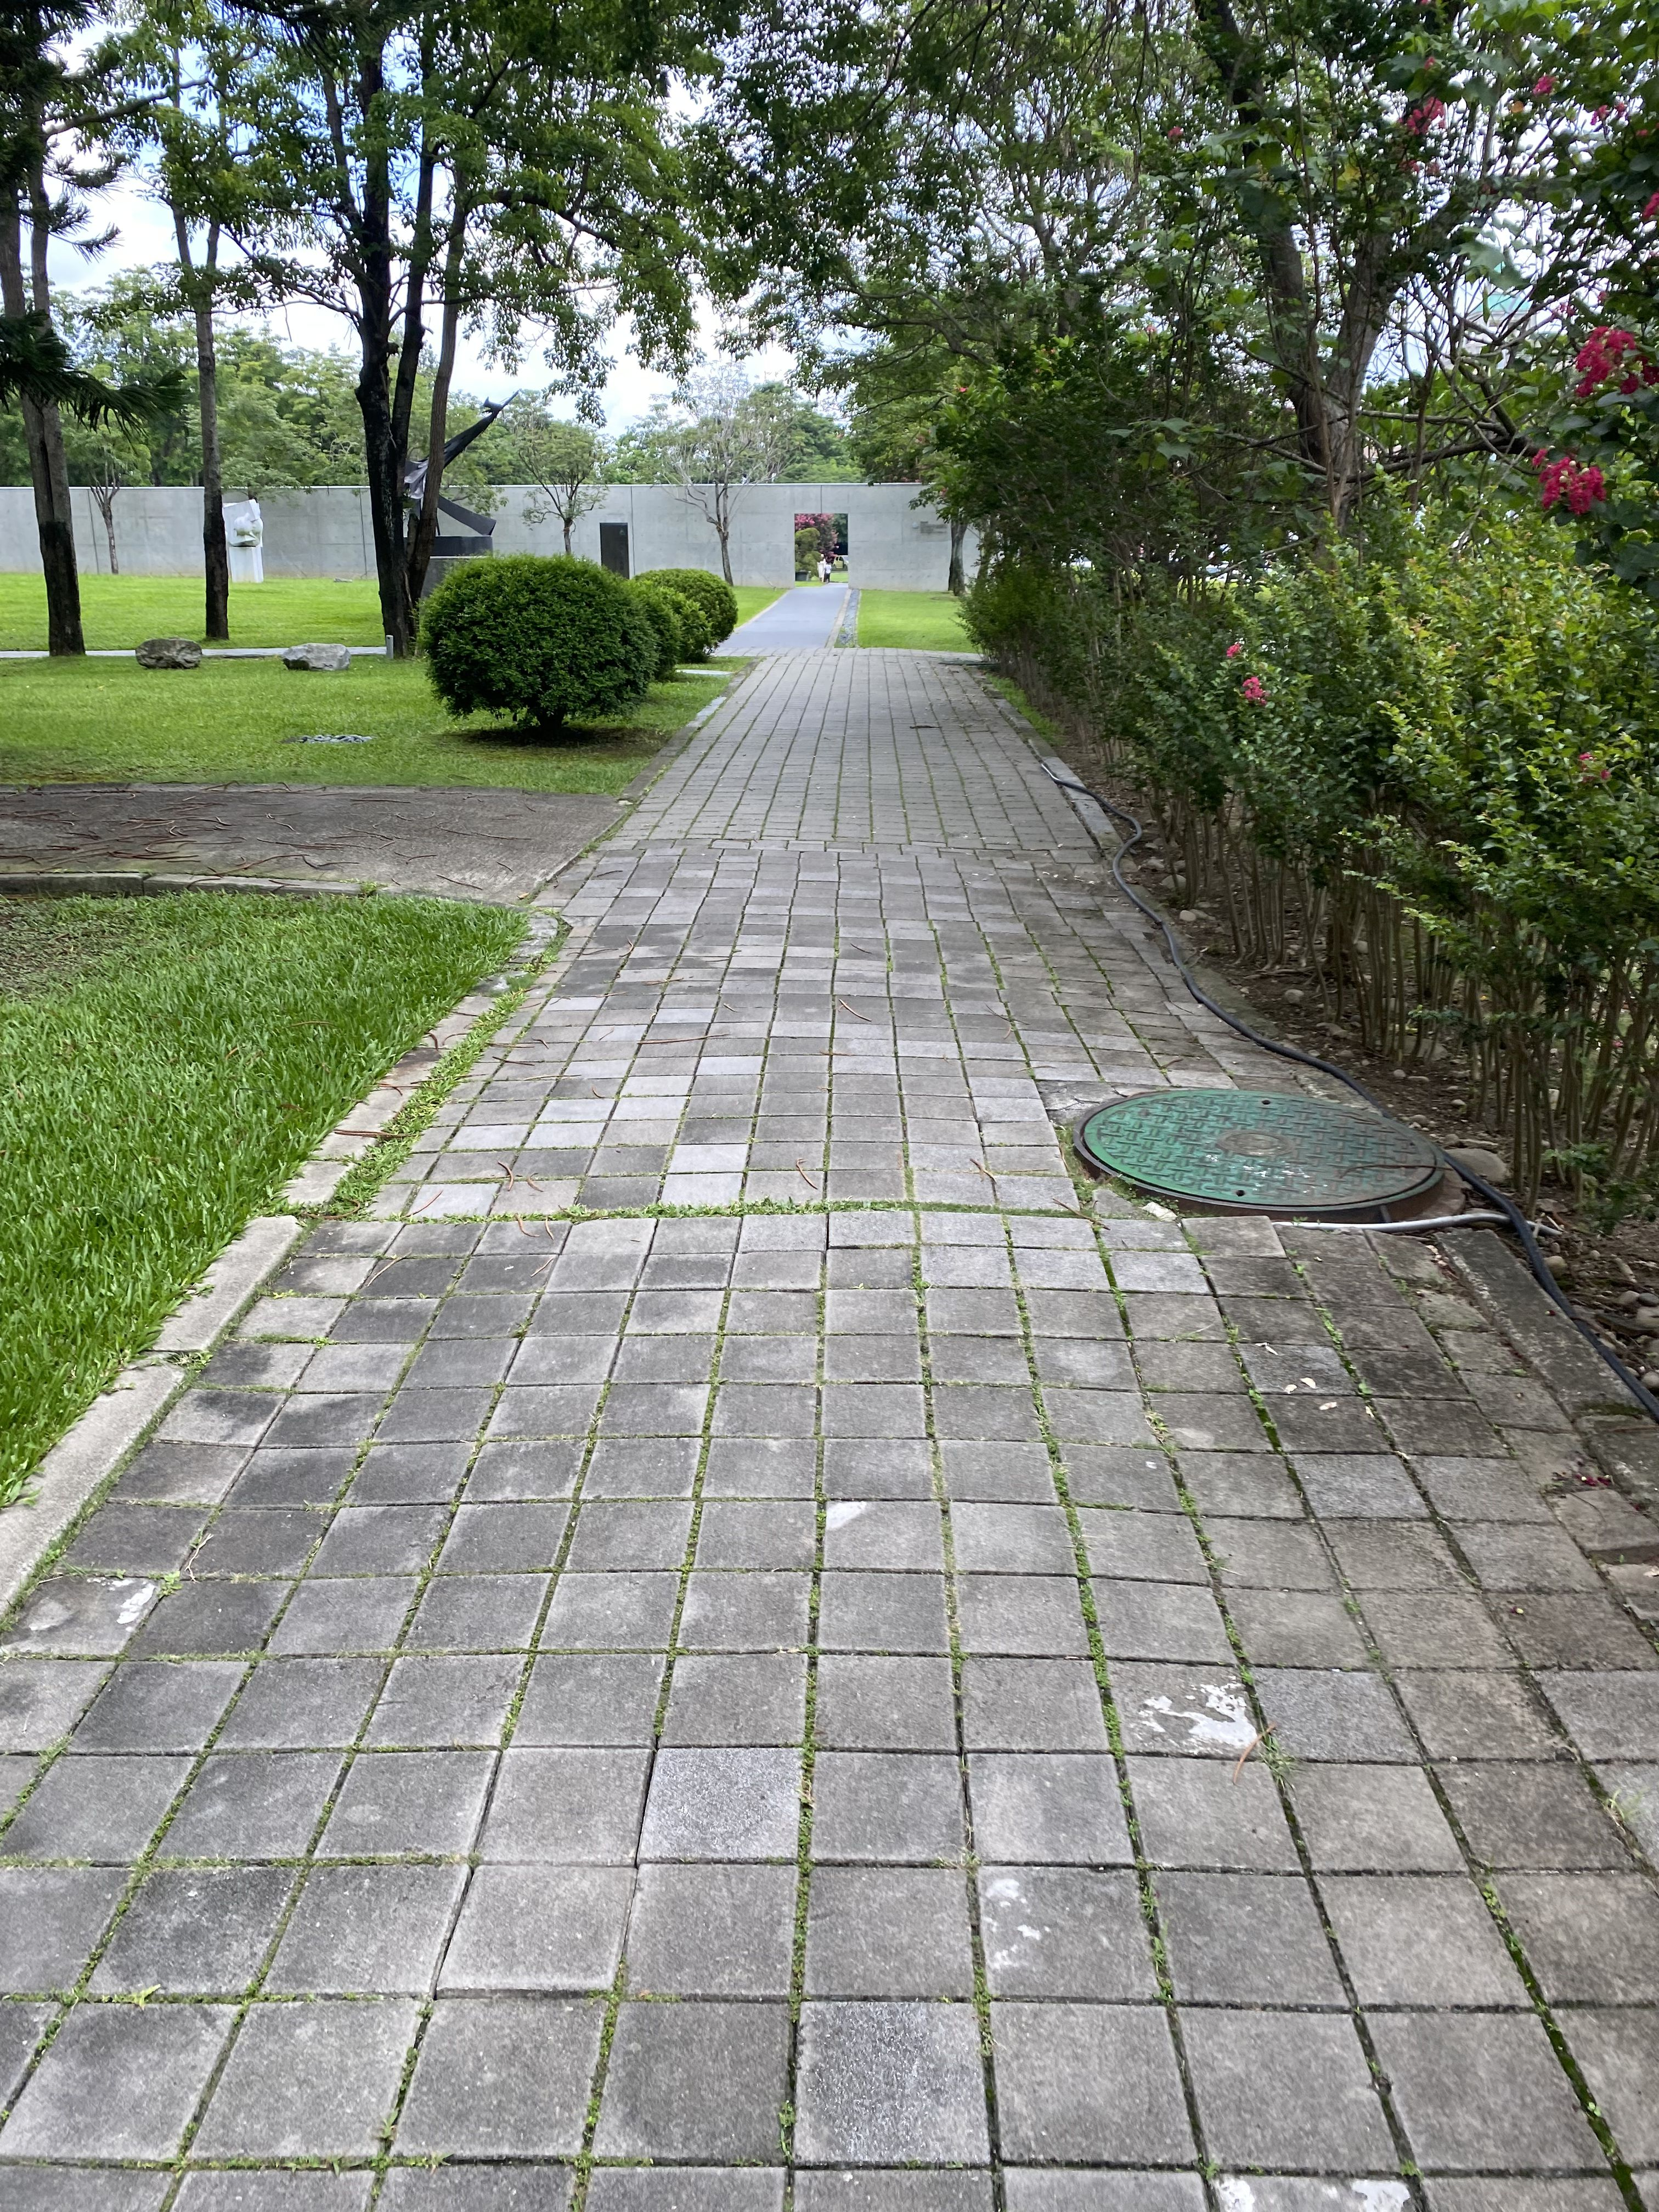0: (709, 552, 1065, 782)
sidewalk: (7, 773, 1659, 2212)
